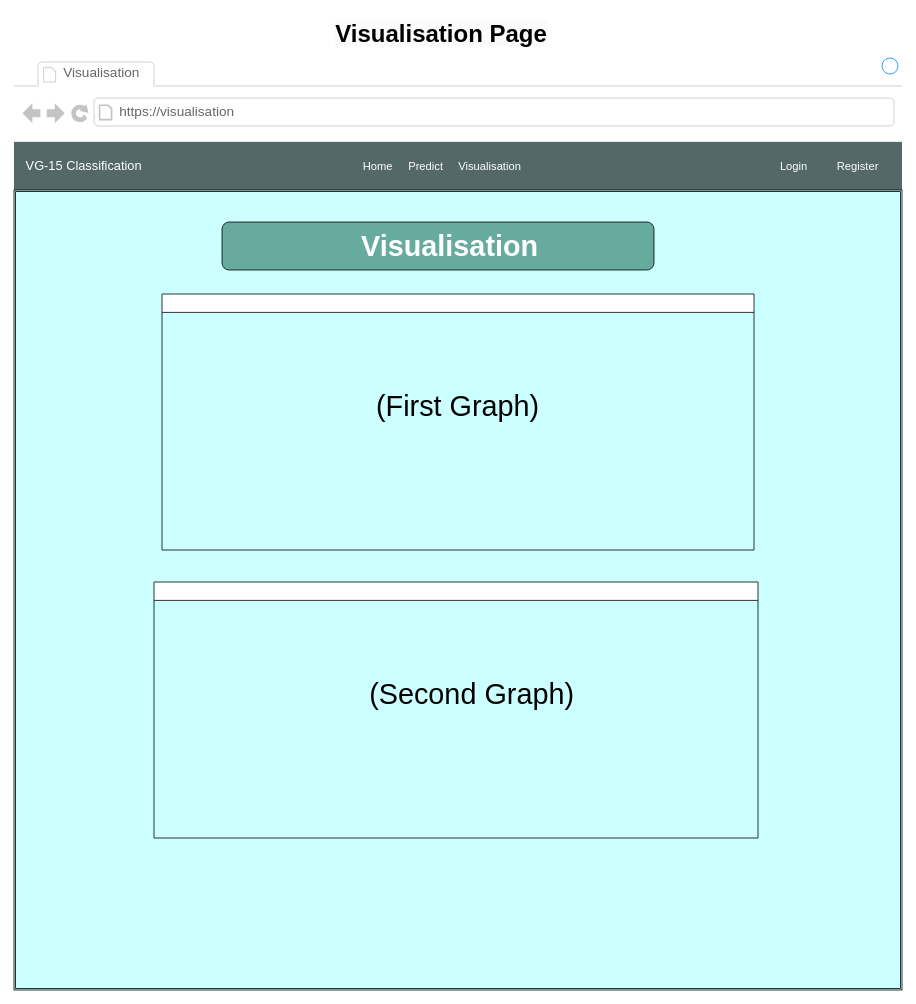
The diagram is 916 pixels wide and 1004 high, and some of its shapes have lost their labels. The box of each missing label's shape, as (x1, y1, x2, y2) in pixels:
Distribution by class: (153, 581, 758, 838)
Prediction over time: (161, 293, 754, 550)
